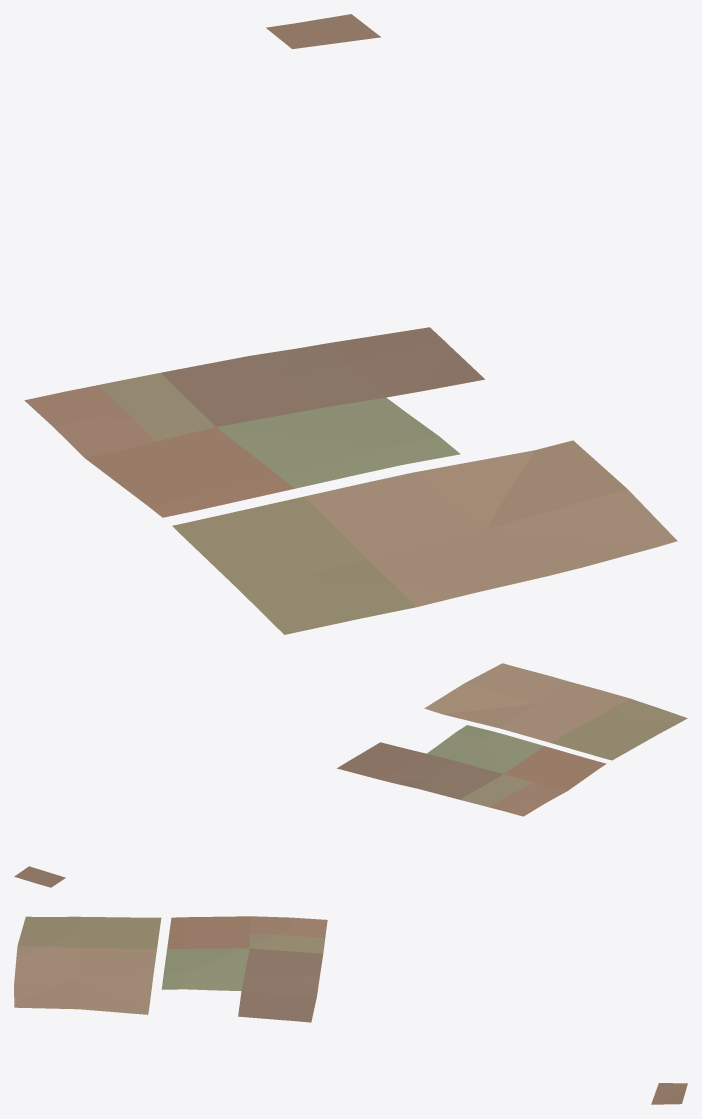
File: farm_20_17_soil.glb
3 renders of one model, top to bottom at view 1: azimuth 30°, elevation 25°; view 2: azimuth 150°, elevation 25°; view 3: azimuth 270°, elevation 25°, orthographic. The views are drawn at different scales.
Parts seen in each view (by area): view 1: geometry_0; view 2: geometry_0; view 3: geometry_0.
Part boxes in pixels (bbox=[...]): geometry_0: bbox=[24, 14, 677, 634]; geometry_0: bbox=[14, 663, 687, 887]; geometry_0: bbox=[14, 916, 687, 1104].
Bounding box in the file's own units: 316 × 14.4 × 510.
